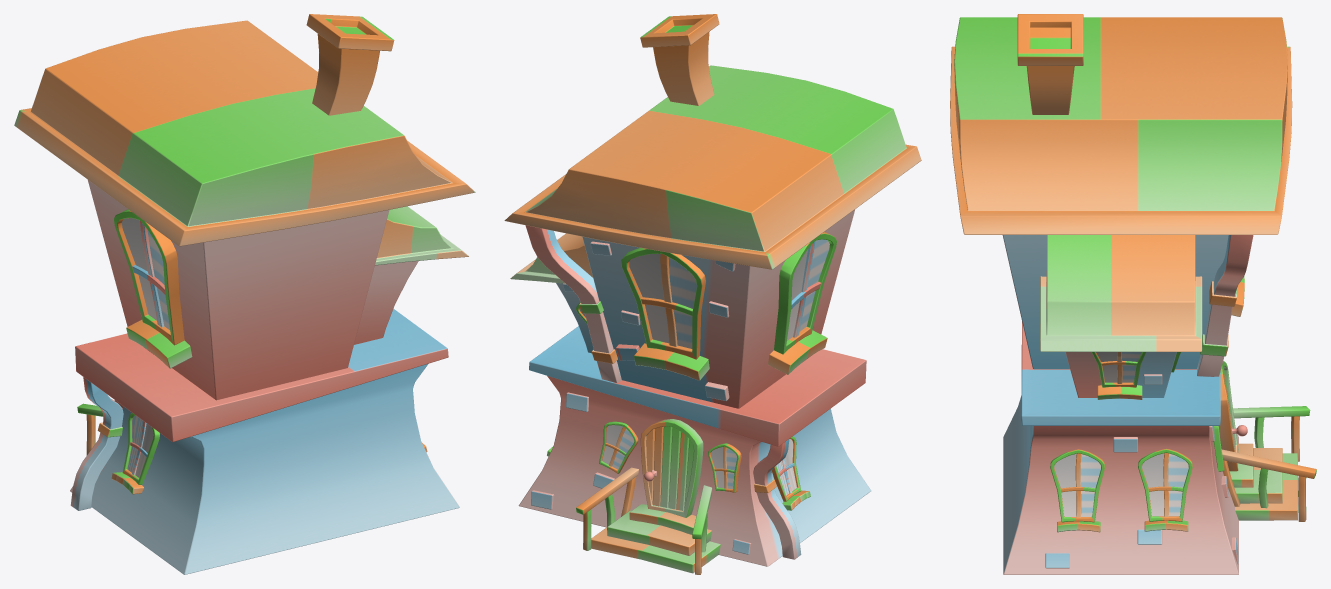
File: HouseA_v1.fbx
3 views of the same model, side by side, from view 1: azimuth 30°, elevation 25°; view 2: azimuth 150°, elevation 25°; view 3: azimuth 270°, elevation 25° (orthographic). The views are drawn at different scales.
Parts seen in each view (by area): view 1: HouseA_v1; view 2: HouseA_v1; view 3: HouseA_v1.
Part boxes in pixels (x1=…): HouseA_v1: x1=14, y1=14, x2=475, y2=574; HouseA_v1: x1=504, y1=14, x2=921, y2=574; HouseA_v1: x1=950, y1=14, x2=1316, y2=574.
Bounding box in the file's own units: 772 × 1090 × 717.
